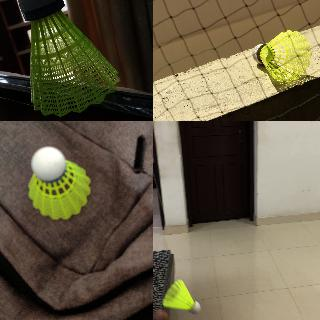shuttlecock: (18, 0, 120, 117), (28, 146, 90, 218), (252, 30, 310, 82), (163, 278, 200, 314)
